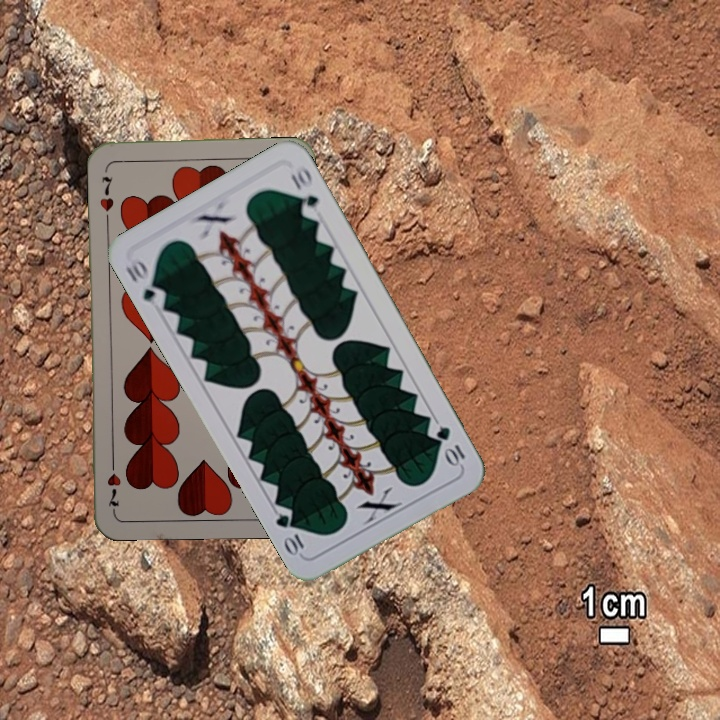G10: (121, 253, 169, 306), (432, 422, 468, 469)
H7: (95, 172, 117, 214)
